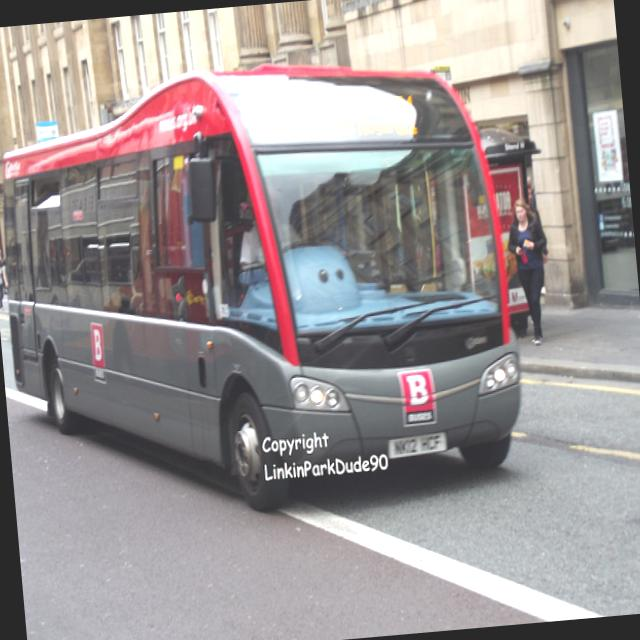Vehicle: (0, 42, 532, 529)
